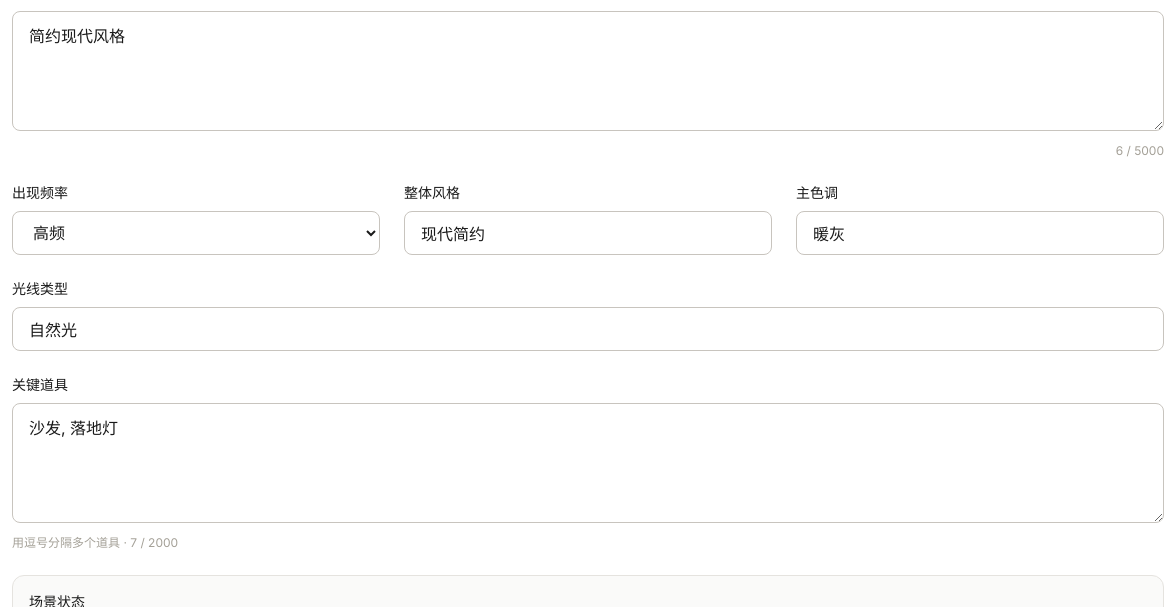
it: LocationForm › handles submit error
The width and height of the screenshot is (1176, 607).
Replace the text in the text box labelled "场景描述" with "新描述" at [588, 71], box [12,11,1164,131]
(page scrolled)
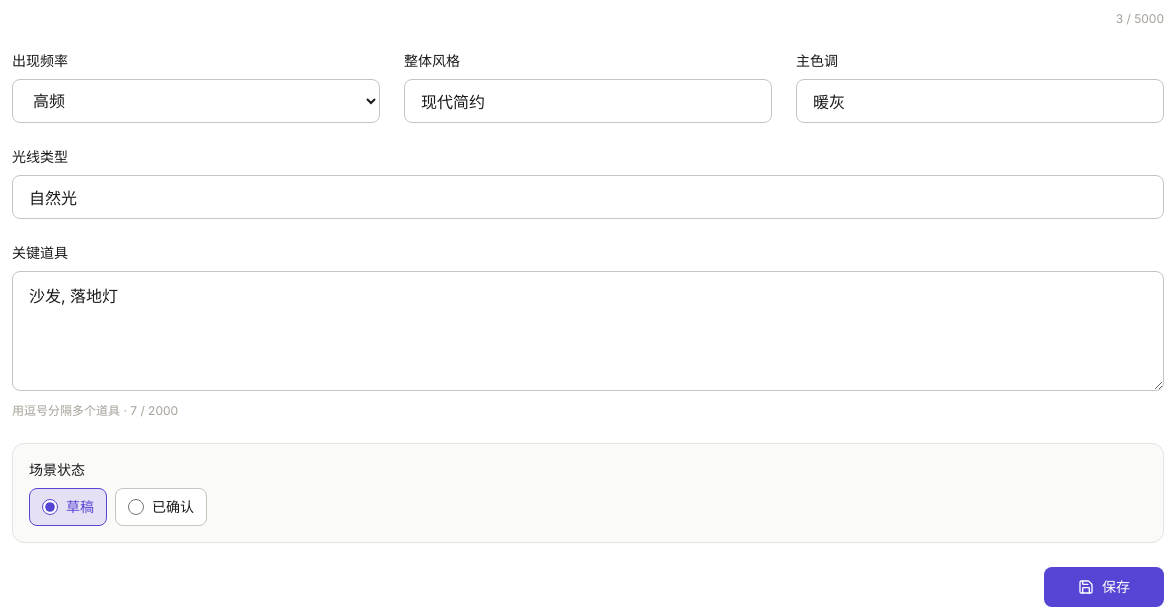
Click the button "保存" at [1104, 587], box [1044,567,1164,606]
(page scrolled)
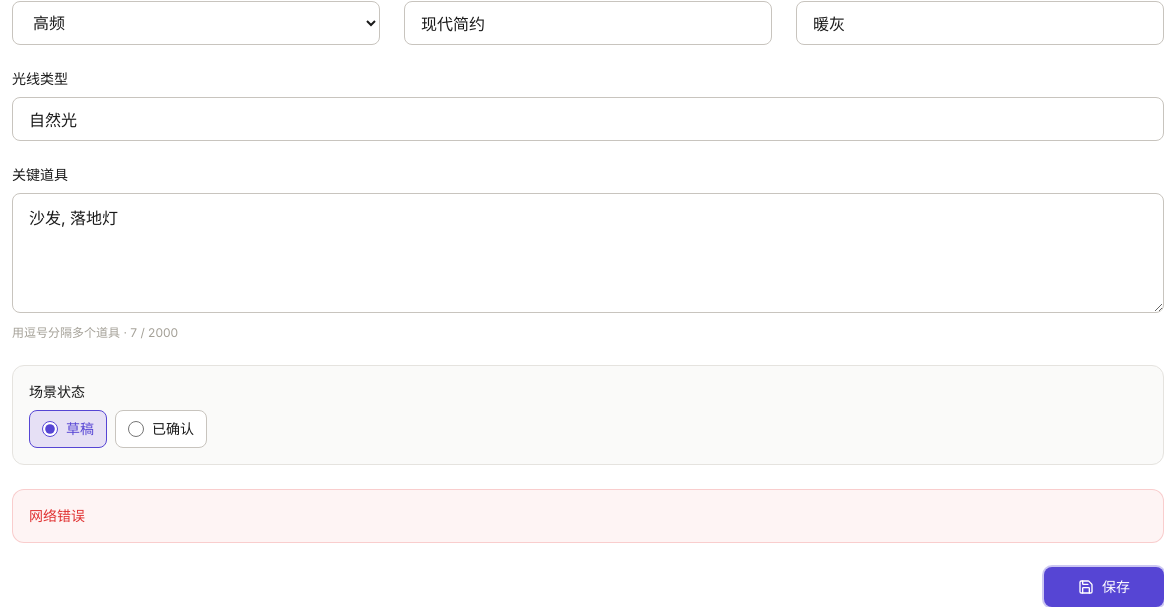
Now the text "网络错误" is shown, box [12,489,1164,543]
